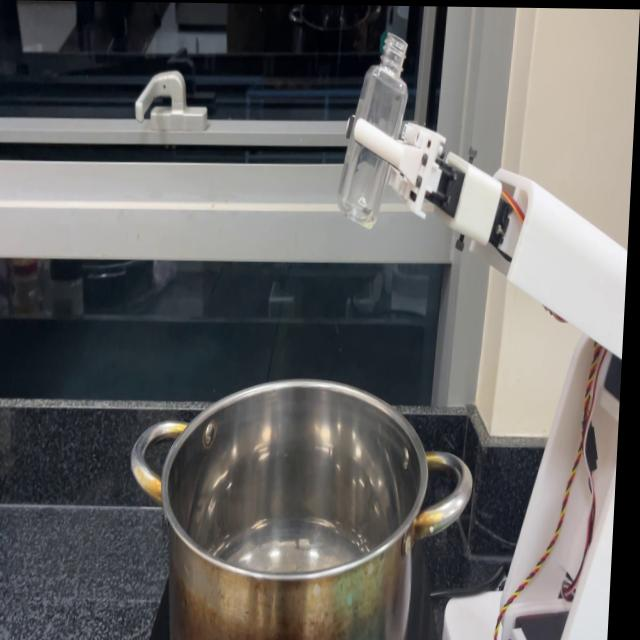cooking_pot: (128, 374, 483, 640)
